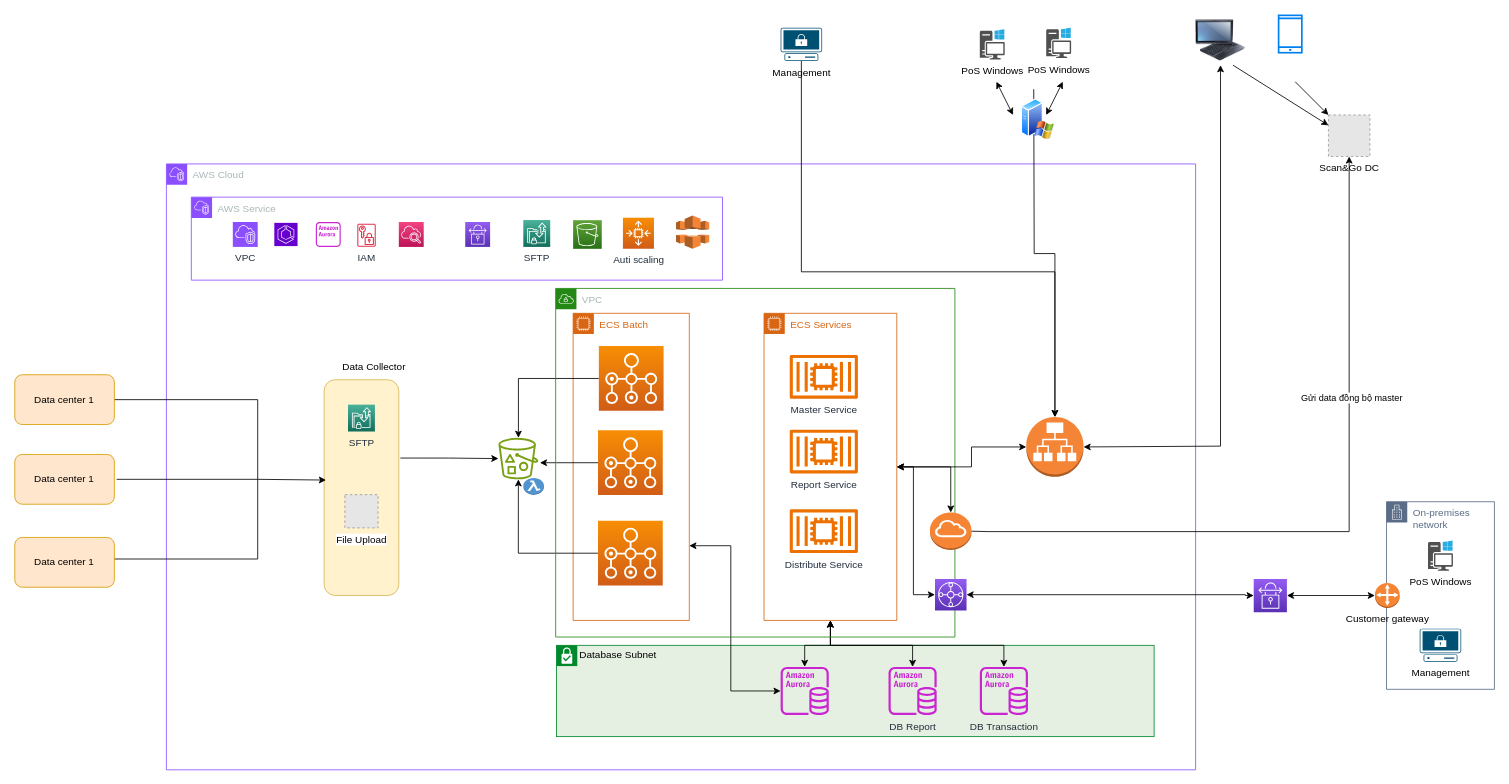
This 1509x784 diagram has some shape labels left out. Grey dashed boxes stand in for pictures. The shapes that lost their labels are listed below. From the top down, each one's centre as x and y in pixels, then its label:
pixel 1220 40: PoS Android
pixel 1289 33: Smartphone
pixel 1037 118: PoS Windows Parrent
pixel 285 234: ECS
pixel 327 234: DB
pixel 411 234: Cloudwatch
pixel 477 234: Site-to-Site VPN
pixel 587 234: S3
pixel 692 232: Cloud Front
pixel 533 486: Trigger
pixel 950 531: Internet Gateway
pixel 950 594: Transit gateway
pixel 1270 595: VPN connection
pixel 804 690: DB Master
